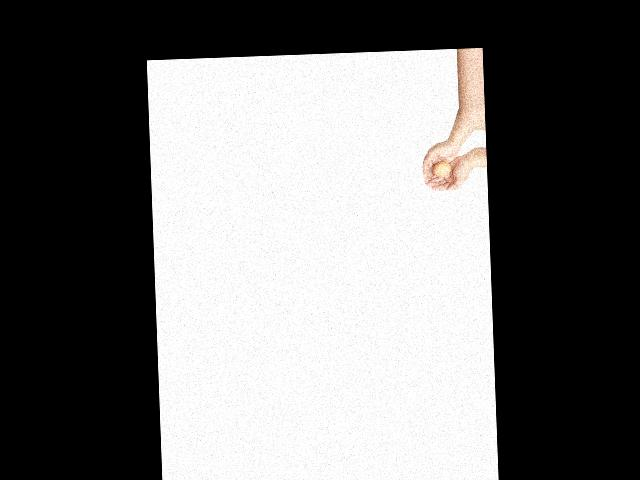egg: (433, 160, 451, 176)
